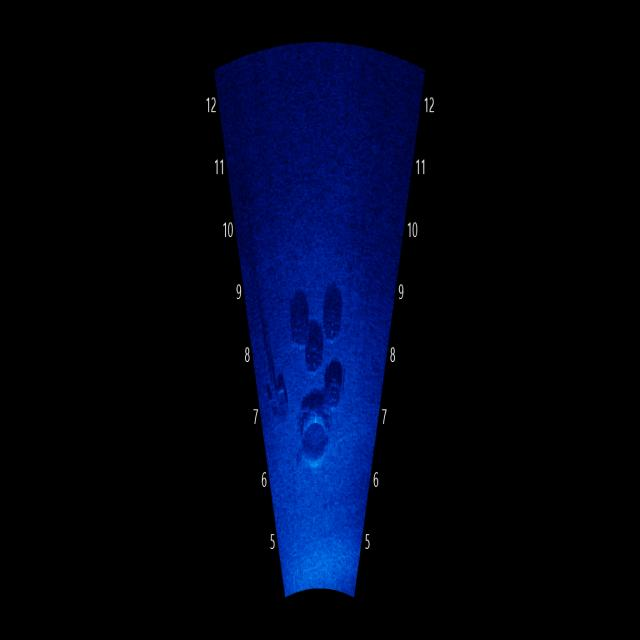circle: (297, 399, 329, 478)
